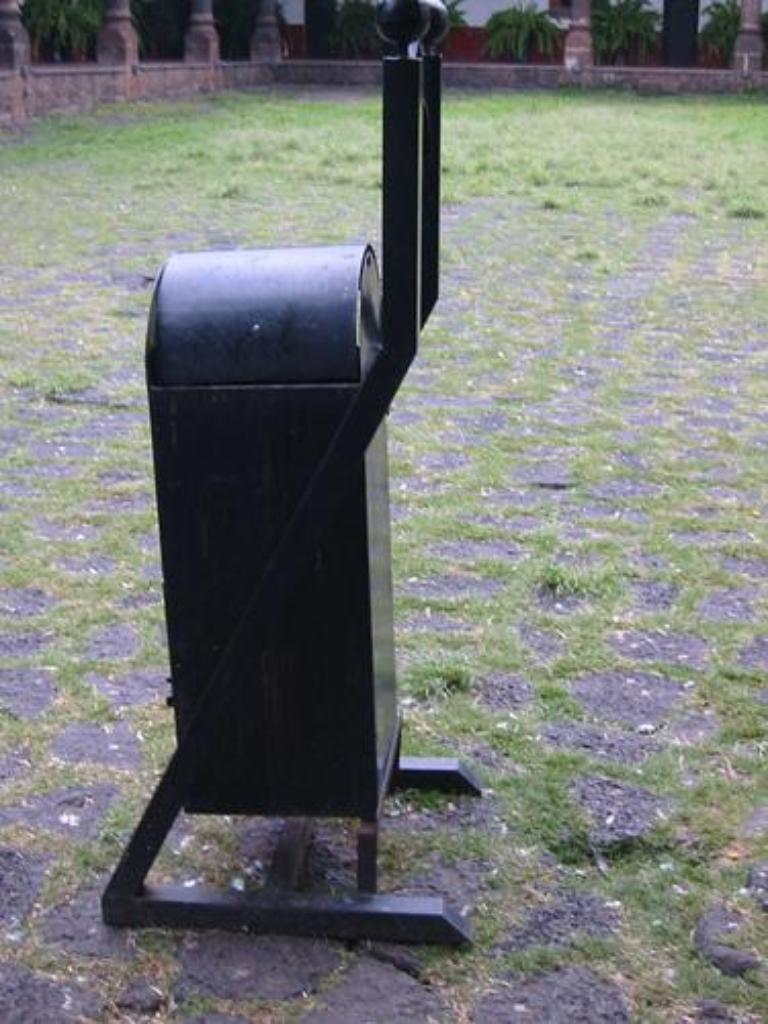dustbin: (127, 218, 464, 960)
